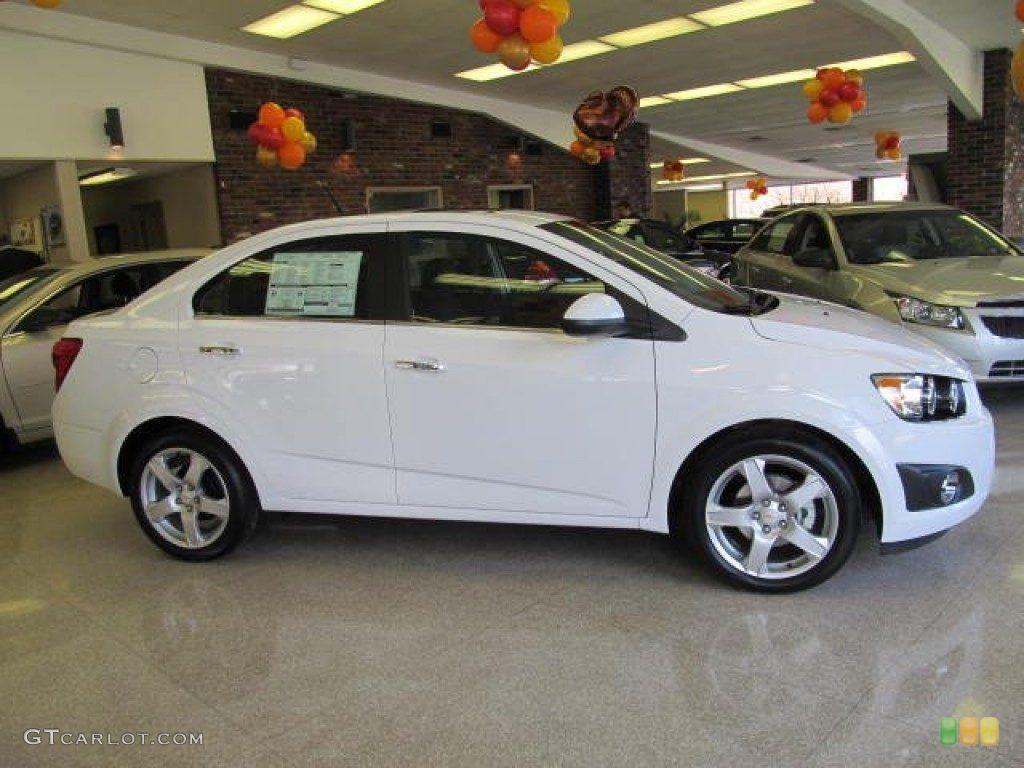Sedan: (48, 205, 996, 593), (725, 199, 1023, 388), (0, 246, 230, 450)
